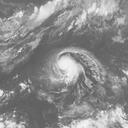cyclone: (47, 46, 104, 100)
